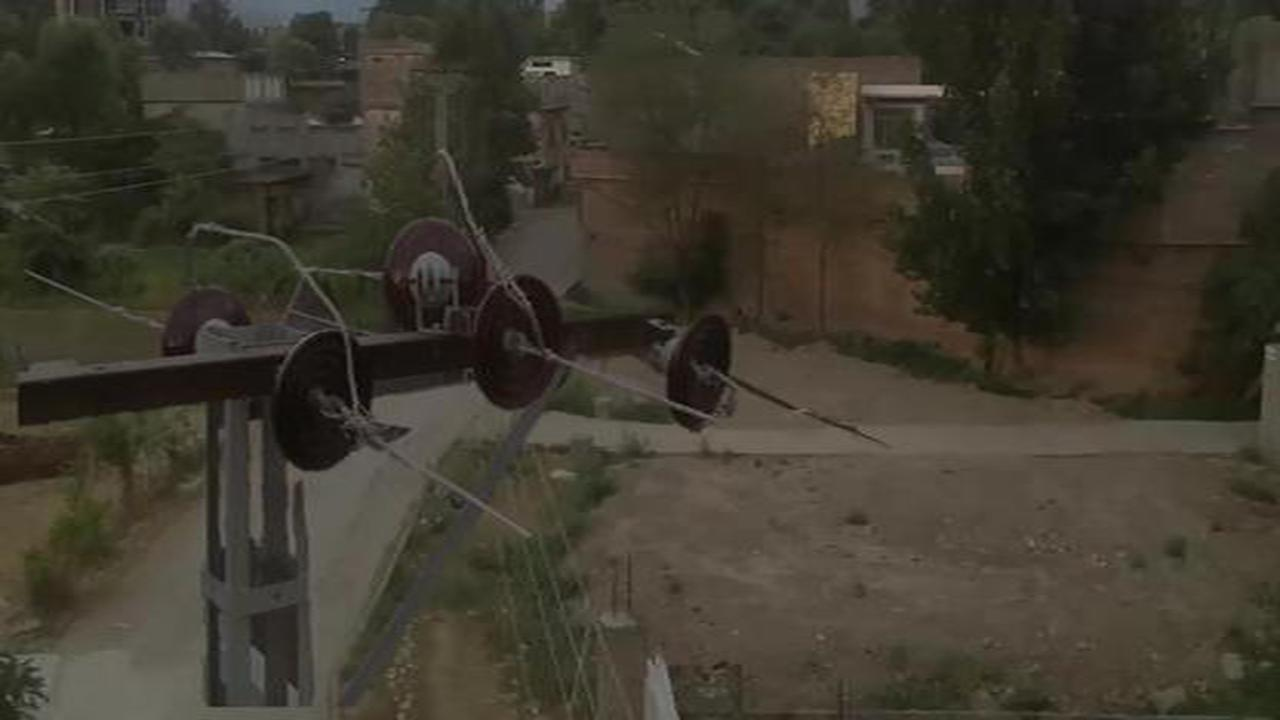insulator_disc: (255, 328, 389, 462), (460, 274, 568, 413), (379, 213, 489, 330), (658, 304, 745, 429), (153, 289, 257, 362)
